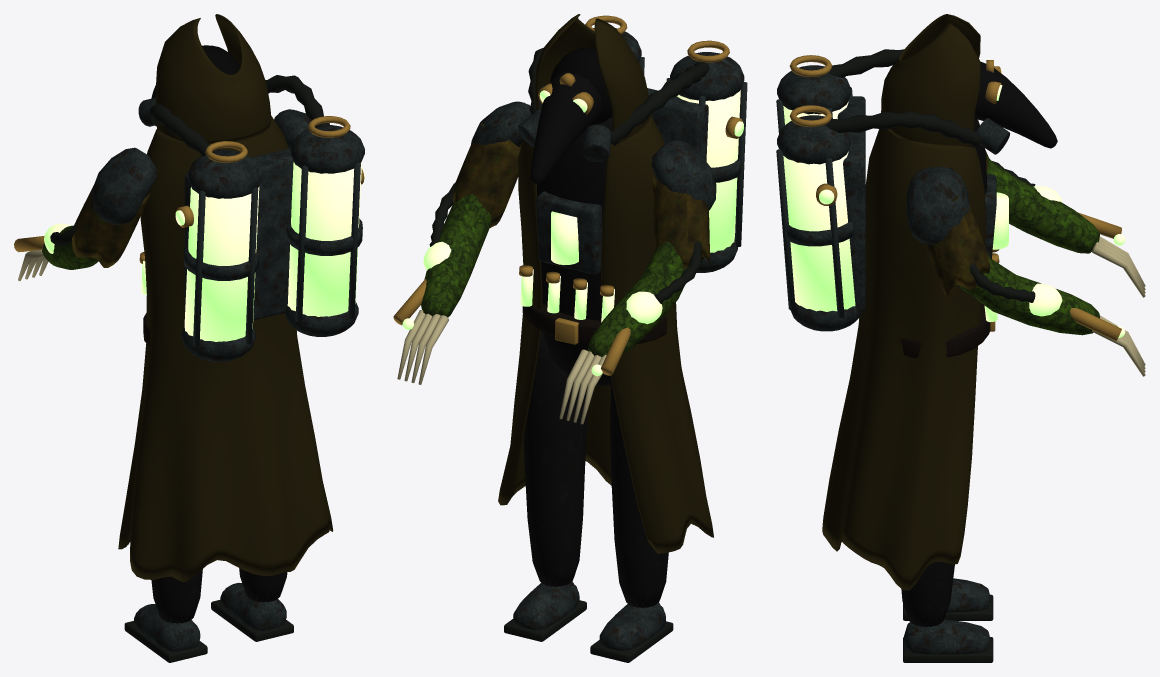
Rendered from boss_necromancer.glb.
The picture shows the model from 3 angles, left to right: view 1: azimuth 30°, elevation 25°; view 2: azimuth 150°, elevation 25°; view 3: azimuth 270°, elevation 25°; orthographic projection.
Parts seen in each view (by area): view 1: Torso_Geo, Head_Geo, ArmL_Geo, LegL_Geo, LegR_Geo, ArmR_Geo; view 2: Torso_Geo, LegR_Geo, ArmL_Geo, ArmR_Geo, Head_Geo, LegL_Geo; view 3: Torso_Geo, ArmR_Geo, Head_Geo, ArmL_Geo, LegR_Geo, LegL_Geo.
Boxes of the visible parts, box(x1,y1,x2,y2) form: Torso_Geo: box(118, 75, 364, 582); Head_Geo: box(138, 14, 271, 144); ArmL_Geo: box(14, 147, 156, 280); LegL_Geo: box(124, 569, 207, 662); LegR_Geo: box(211, 568, 293, 641); ArmR_Geo: box(274, 109, 310, 148); Torso_Geo: box(498, 15, 747, 553); LegR_Geo: box(504, 331, 587, 641); ArmL_Geo: box(559, 140, 716, 424); ArmR_Geo: box(393, 101, 531, 384); Head_Geo: box(518, 14, 650, 183); LegL_Geo: box(590, 384, 673, 662); Torso_Geo: box(776, 49, 1008, 590); ArmR_Geo: box(906, 166, 1145, 376); Head_Geo: box(881, 14, 1057, 154); ArmL_Geo: box(985, 149, 1145, 297); LegR_Geo: box(901, 561, 993, 662); LegL_Geo: box(903, 578, 993, 620).
Bounding box in the file's own units: 0.9587 × 2.19 × 1.19.
Materials: 11 (5 with a texture image).
